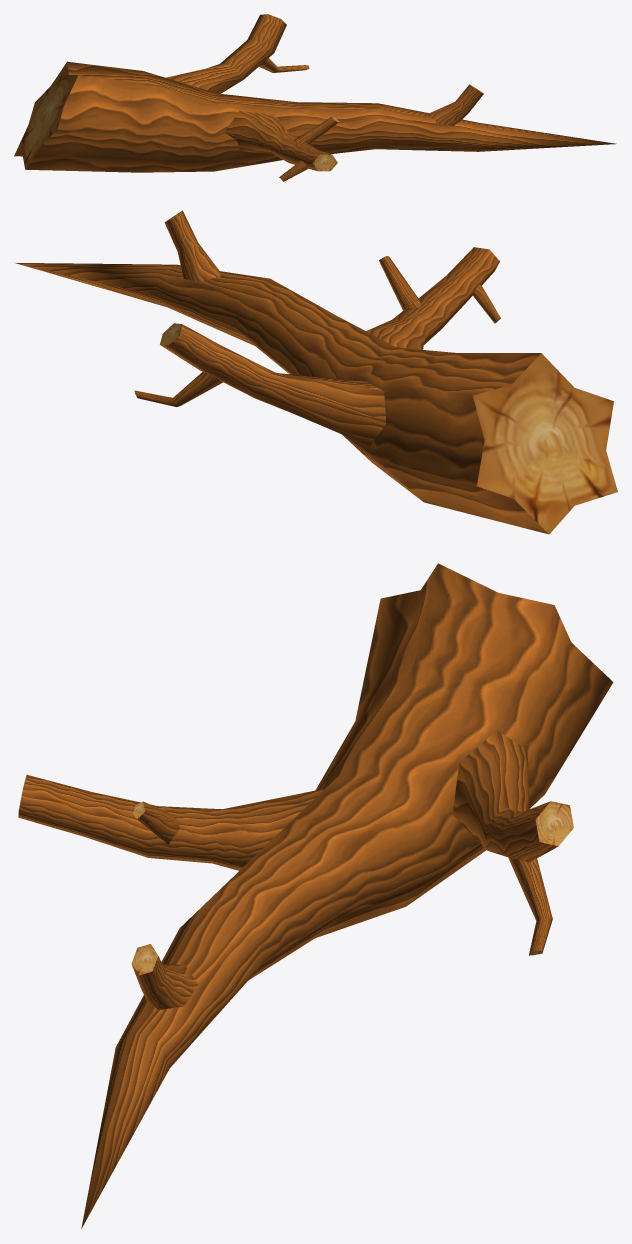
Rendered from Tree04.FBX.
The picture shows the model from 3 angles, top to bottom: view 1: azimuth 30°, elevation 25°; view 2: azimuth 150°, elevation 25°; view 3: azimuth 270°, elevation 25°; orthographic projection. The views are drawn at different scales.
Visible parts, largest first — view 1: Tree04; view 2: Tree04; view 3: Tree04.
Part boxes in pixels (bbox=[...]): Tree04: bbox=[14, 14, 616, 181]; Tree04: bbox=[14, 210, 617, 534]; Tree04: bbox=[18, 563, 613, 1228].
Bounding box in the file's own units: 53.77 × 11.58 × 27.53.
